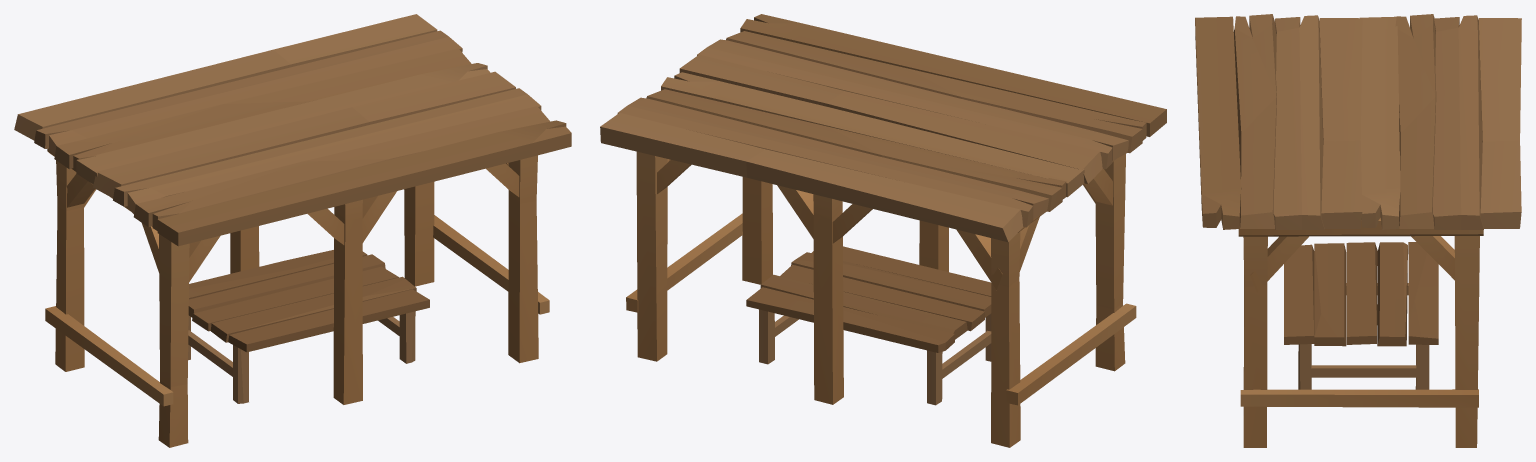
The model's file is Market_C.fbx.
The picture shows the model from 3 angles, left to right: view 1: azimuth 30°, elevation 25°; view 2: azimuth 150°, elevation 25°; view 3: azimuth 270°, elevation 25°; orthographic projection.
Visible parts, largest first — view 1: Market_C; view 2: Market_C; view 3: Market_C.
Part boxes in pixels (box(x1,y1,x2,y2)): Market_C: box(14, 14, 571, 447); Market_C: box(600, 14, 1166, 447); Market_C: box(1195, 14, 1521, 447).
Bounding box in the file's own units: 506 × 286 × 348.
